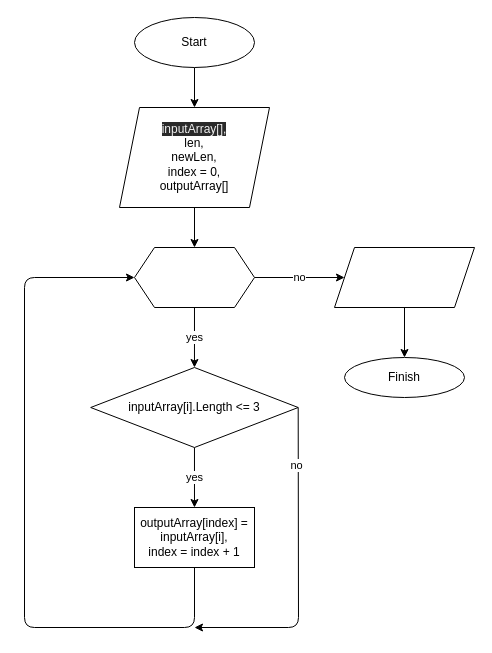
Image size: 492x653. Some labels were removed from this diagram. The shapes that lost their labels are listed below. From the top down, each one's centre as x and y in pixels, then its label:
At (194,277): "i, 0, len".
At (404,277): "outputArray[]".
